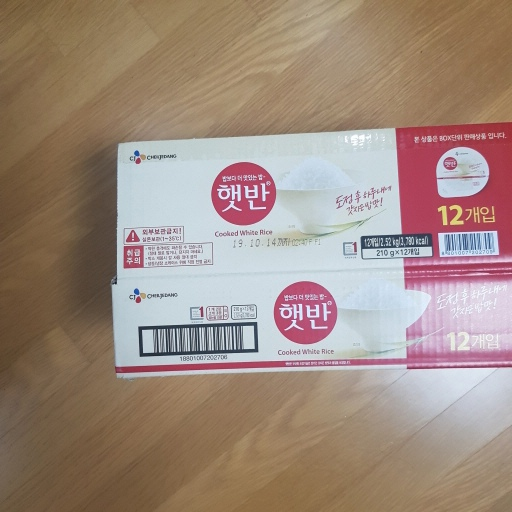Paper_0: (107, 120, 512, 384)
